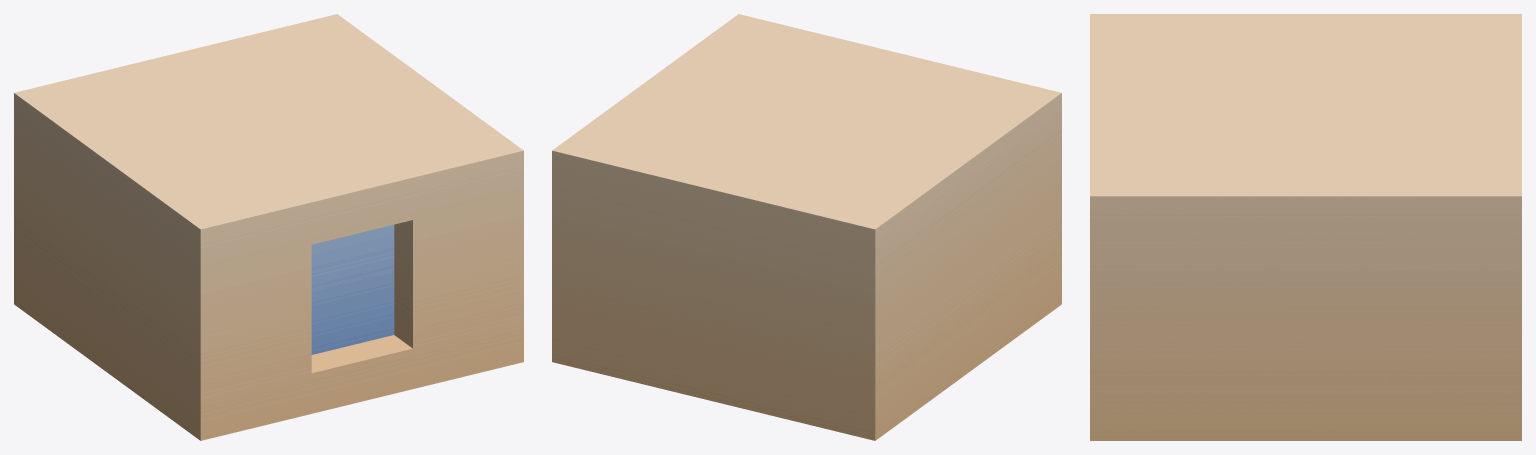
3 renders of one model, left to right at view 1: azimuth 30°, elevation 25°; view 2: azimuth 150°, elevation 25°; view 3: azimuth 270°, elevation 25°, orthographic. The views are drawn at different scales.
Visible parts, largest first — view 1: building-window; view 2: building-window; view 3: building-window.
Boxes of the visible parts, box(x1,y1,x2,y2) form: building-window: box(14, 14, 523, 440); building-window: box(552, 14, 1061, 440); building-window: box(1090, 14, 1521, 440).
Size of the model in its own units: 1 by 0.625 by 1.
Materials: 1 (1 with a texture image).
